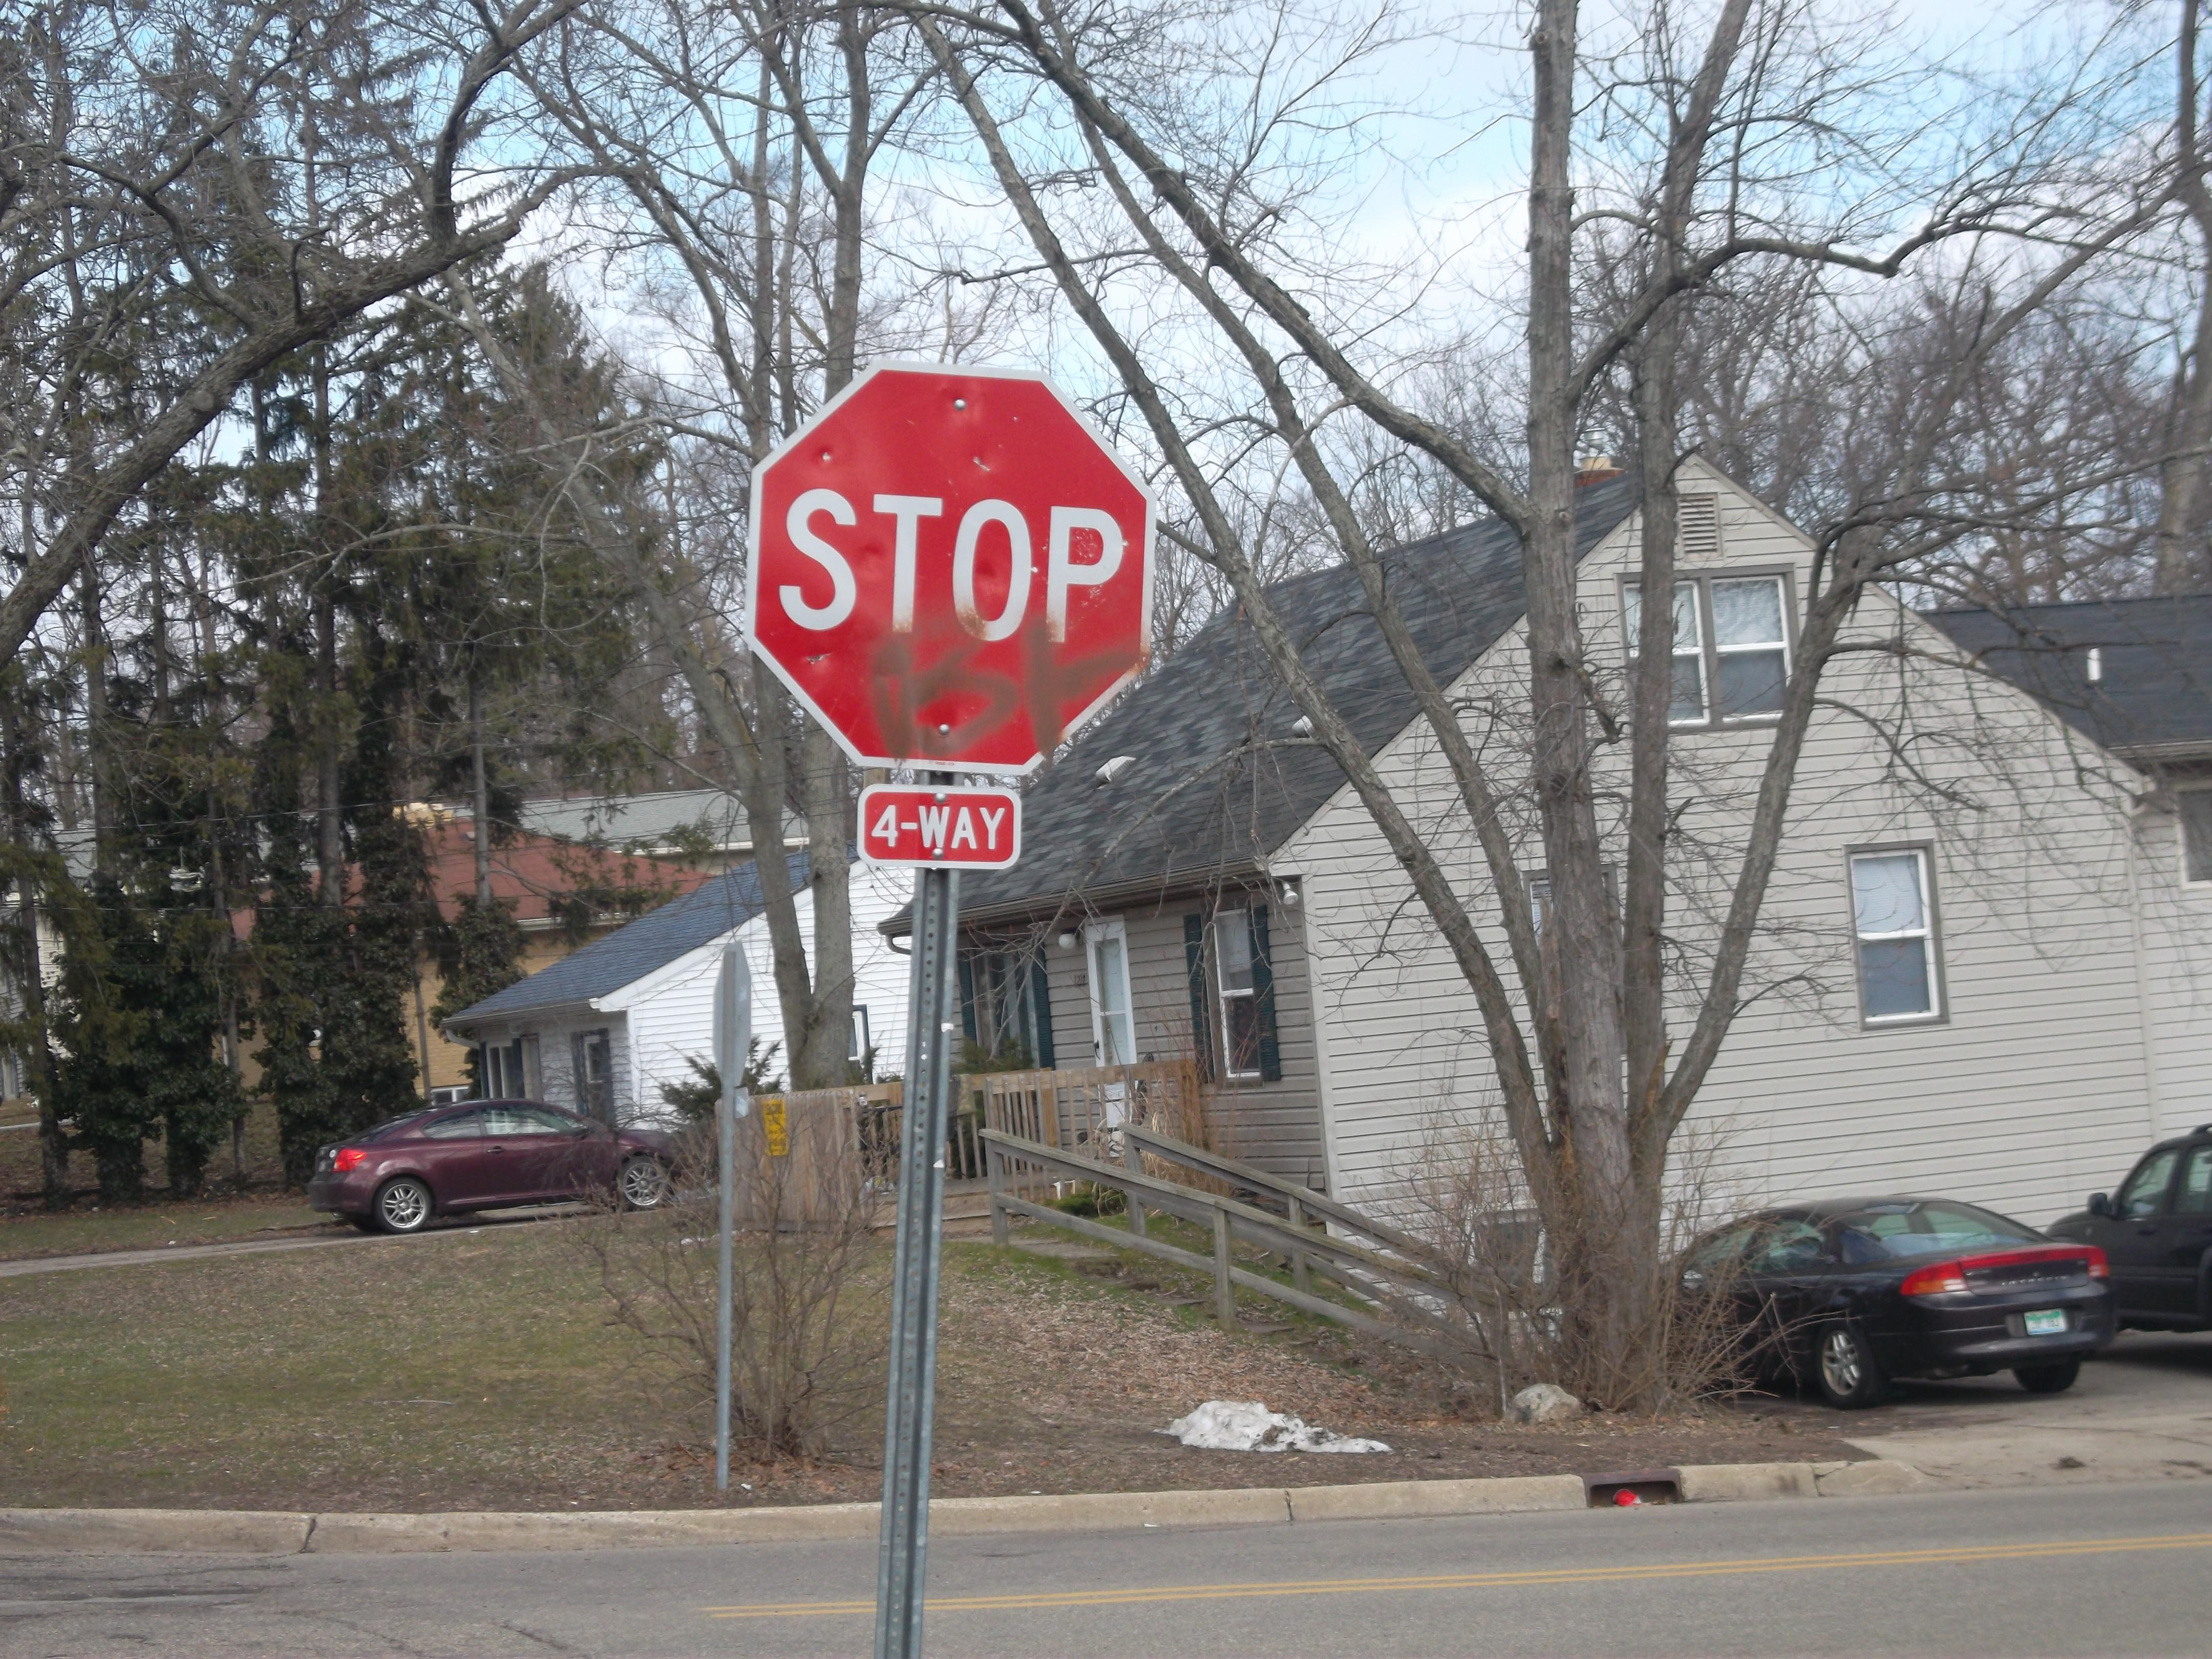stop: (738, 354, 1160, 782)
